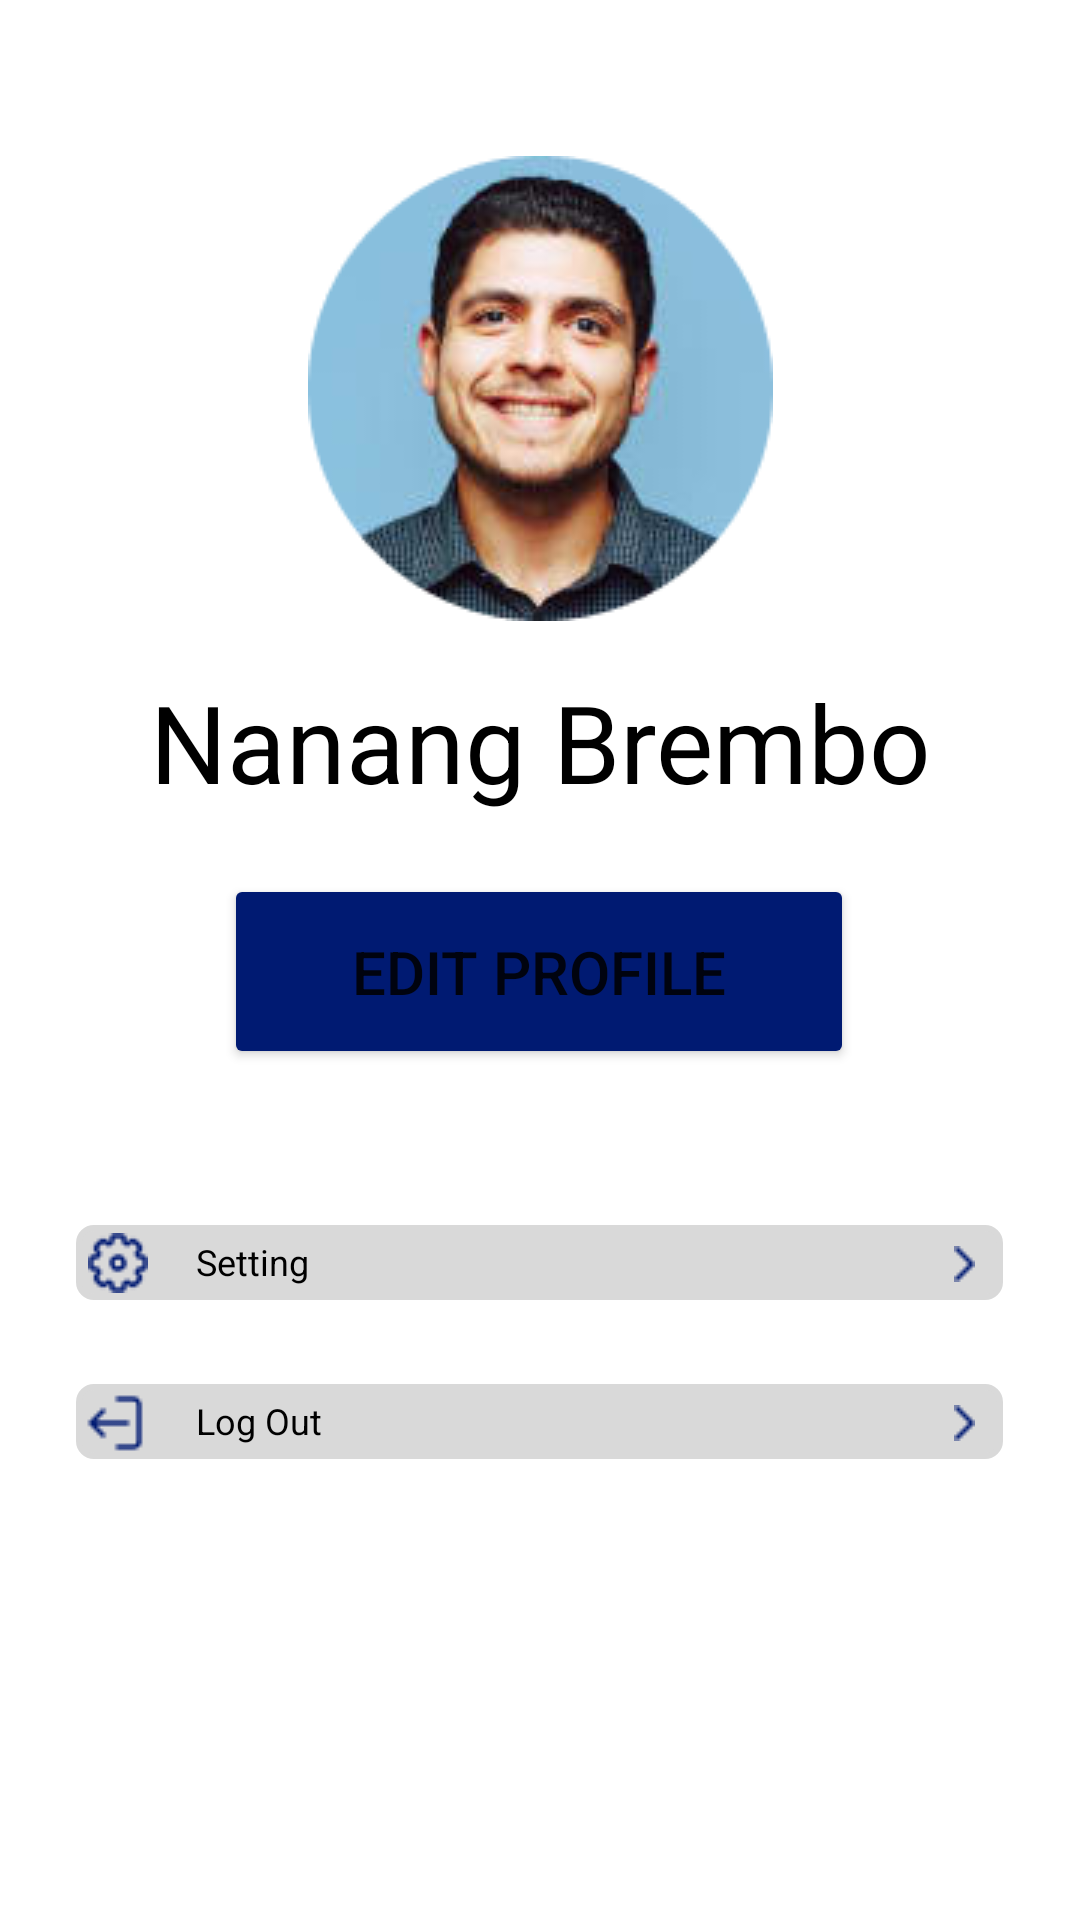

Icons on this 1080 x 1920 Android screen, each with its box as region(x1, y1, x2, y2):
set: region(88, 1233, 148, 1293)
